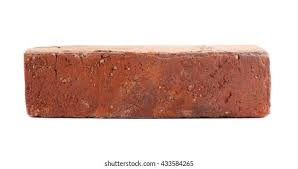brick: (25, 50, 271, 117)
